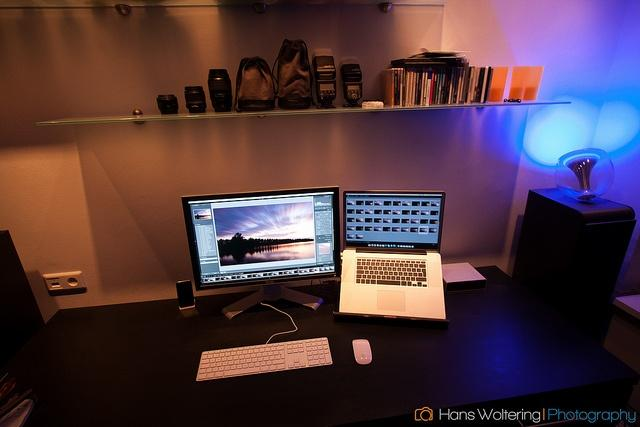AIO PC-Monitor-TV: (180, 185, 342, 320)
